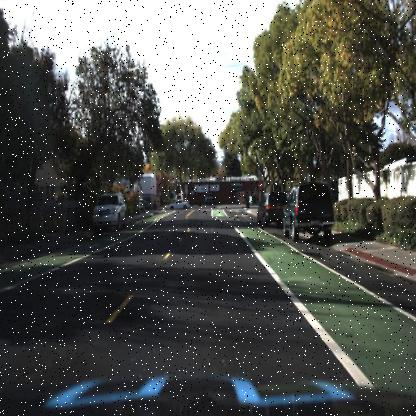car: (282, 178, 338, 242), (91, 190, 126, 230), (254, 190, 281, 228), (167, 196, 191, 212), (165, 198, 192, 212), (202, 190, 216, 206)
